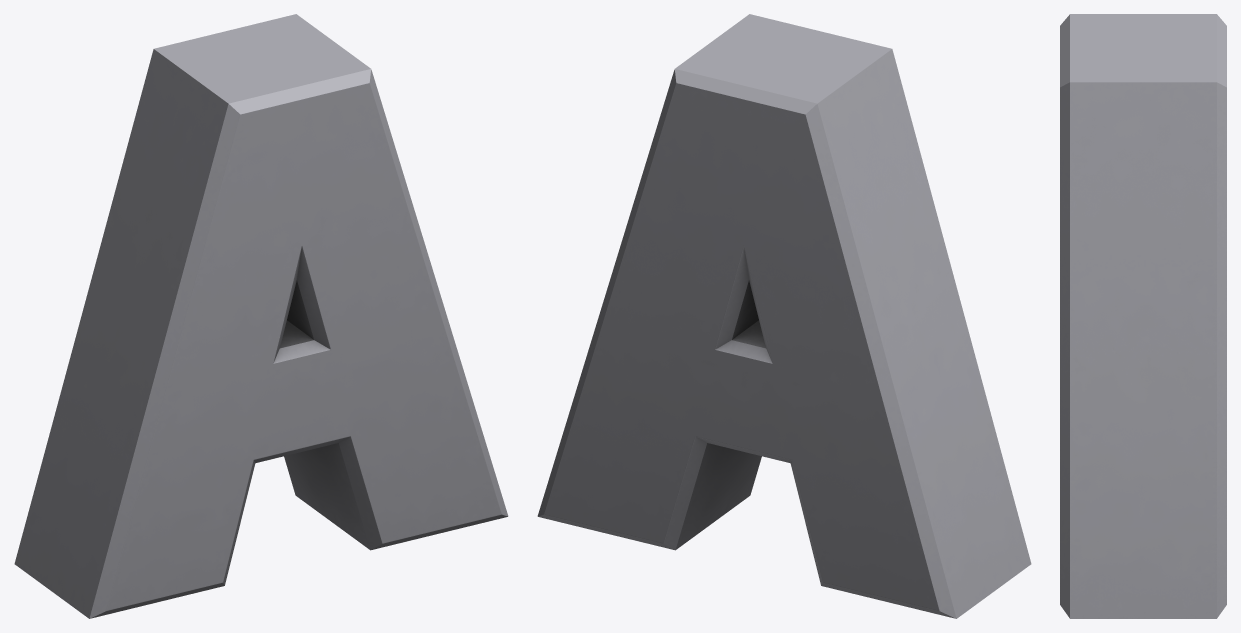
The model's file is A_static.fbx.
3 renders of one model, left to right at view 1: azimuth 30°, elevation 25°; view 2: azimuth 150°, elevation 25°; view 3: azimuth 270°, elevation 25°, orthographic. The views are drawn at different scales.
Visible parts, largest first — view 1: A_static; view 2: A_static; view 3: A_static.
Part boxes in pixels (bbox=[...]): A_static: bbox=[14, 14, 508, 618]; A_static: bbox=[537, 14, 1031, 618]; A_static: bbox=[1060, 14, 1226, 618].
Size of the model in its own units: 93.67 by 103 by 33.
